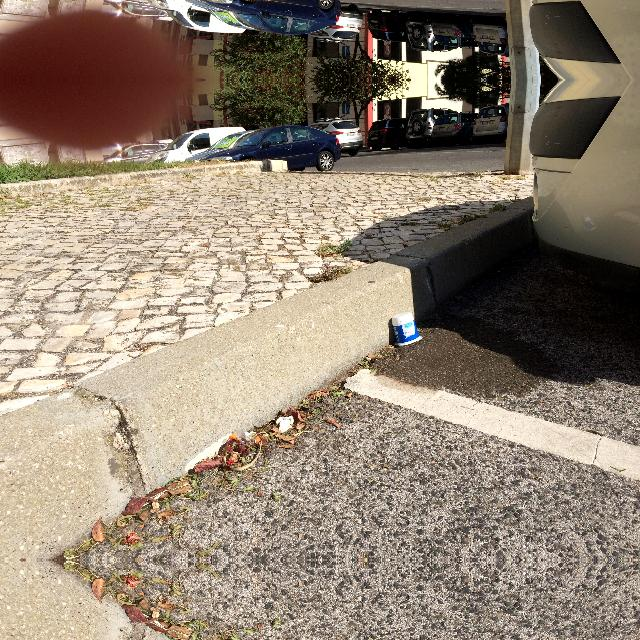Plastic: (387, 309, 425, 349)
